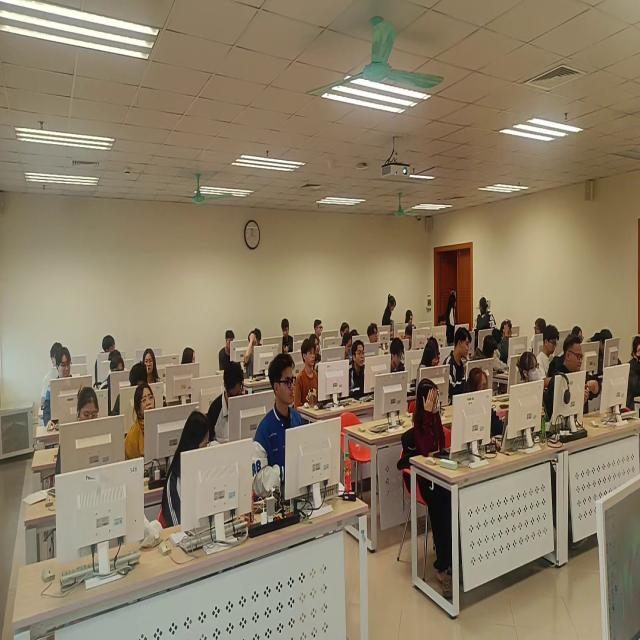raise_head: (253, 351, 306, 506), (519, 351, 552, 447), (126, 384, 156, 464), (296, 338, 320, 405), (41, 342, 63, 414), (348, 338, 367, 399), (628, 333, 640, 414), (144, 348, 163, 385), (502, 319, 516, 368), (312, 332, 322, 363), (368, 322, 379, 343), (339, 320, 351, 338), (315, 316, 325, 337)
stand: (475, 296, 491, 350), (446, 291, 459, 346), (382, 292, 398, 332)
using_computer: (162, 408, 211, 530), (57, 385, 101, 485), (469, 363, 511, 450), (211, 357, 247, 450), (45, 344, 75, 429), (445, 327, 471, 393), (416, 336, 441, 389), (539, 323, 560, 381), (101, 352, 126, 395), (595, 326, 614, 378), (244, 328, 260, 381), (218, 328, 234, 371), (391, 337, 406, 379), (281, 318, 296, 355), (342, 333, 355, 360), (405, 307, 416, 328), (573, 324, 584, 345), (406, 325, 415, 350), (256, 325, 263, 347), (439, 314, 448, 330)
using_phone: (546, 336, 598, 425)
